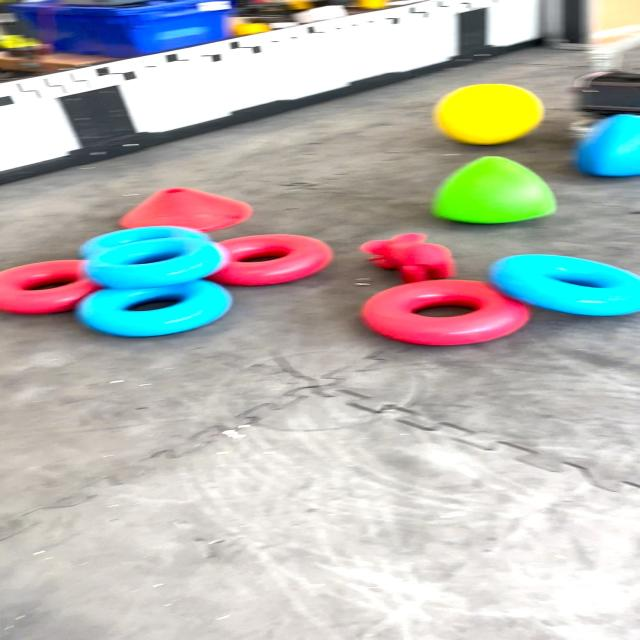Blue-Ring: (489, 255, 640, 316), (76, 280, 231, 336), (84, 238, 227, 289), (78, 226, 211, 259)
Red-Ring: (362, 279, 529, 345), (209, 235, 333, 286), (0, 260, 100, 314)
